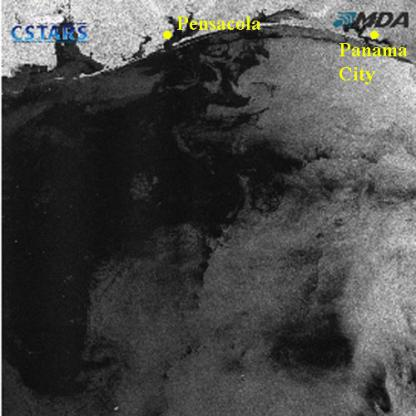oil: (17, 78, 320, 252), (246, 288, 372, 386)
